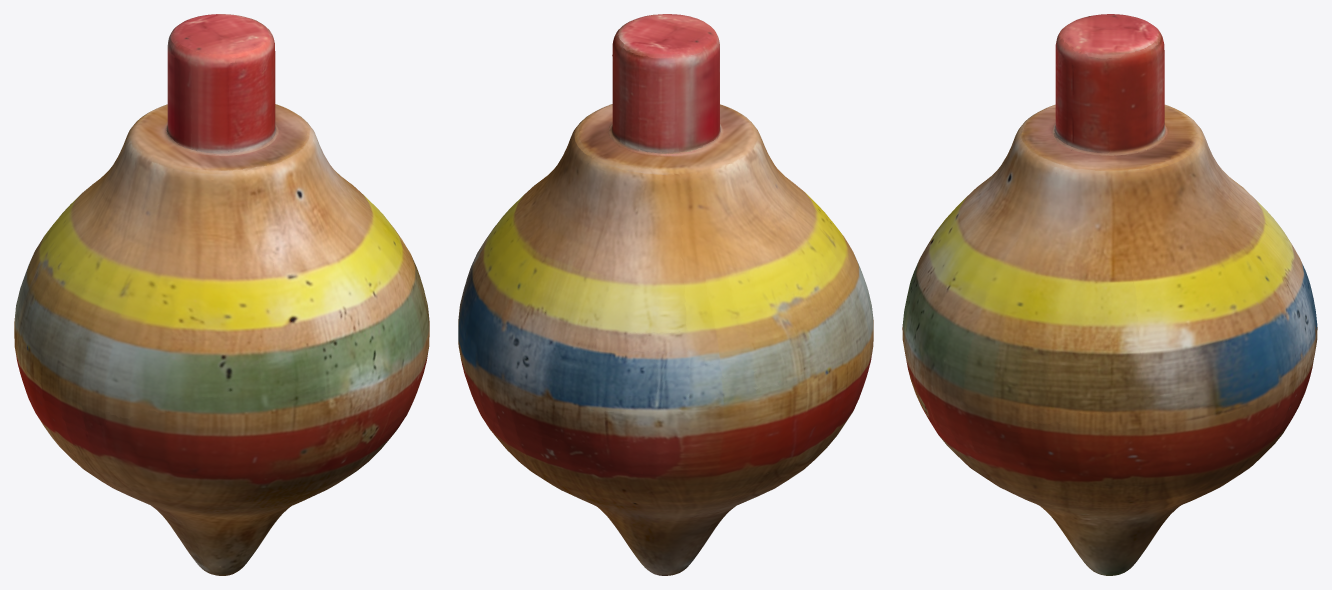
Rendered from wooden-top.glb.
3 renders of one model, left to right at view 1: azimuth 30°, elevation 25°; view 2: azimuth 150°, elevation 25°; view 3: azimuth 270°, elevation 25°, orthographic.
Parts seen in each view (by area): view 1: geometry_0; view 2: geometry_0; view 3: geometry_0.
Boxes of the visible parts, left/top/right/bottom form: geometry_0: left=14, top=14, right=429, bottom=575; geometry_0: left=458, top=14, right=873, bottom=575; geometry_0: left=902, top=14, right=1317, bottom=575.
Bounding box in the file's own units: 0.0913 × 0.13 × 0.0907.
1 material, 1 textured.
